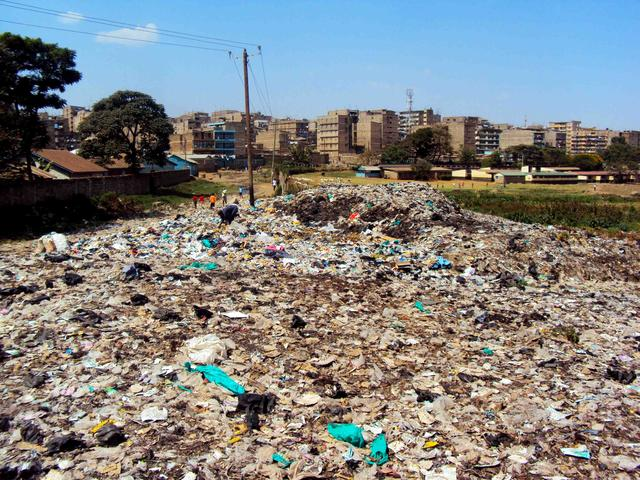garbage: (29, 252, 620, 472)
